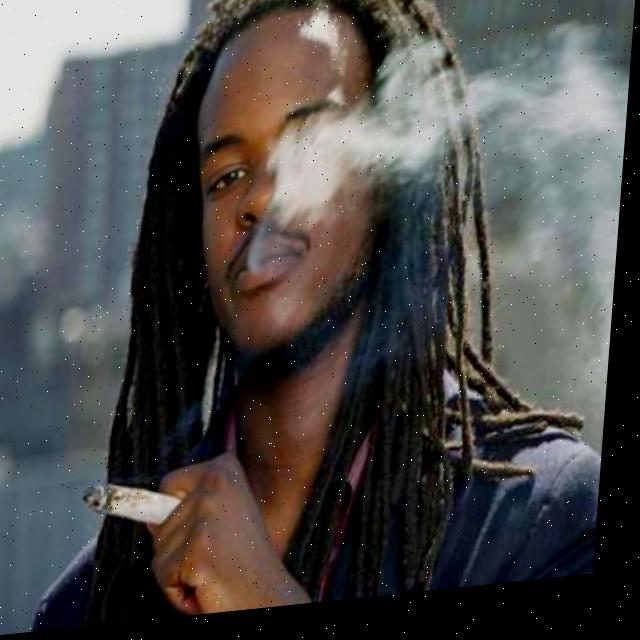cigarette: (90, 478, 195, 540)
